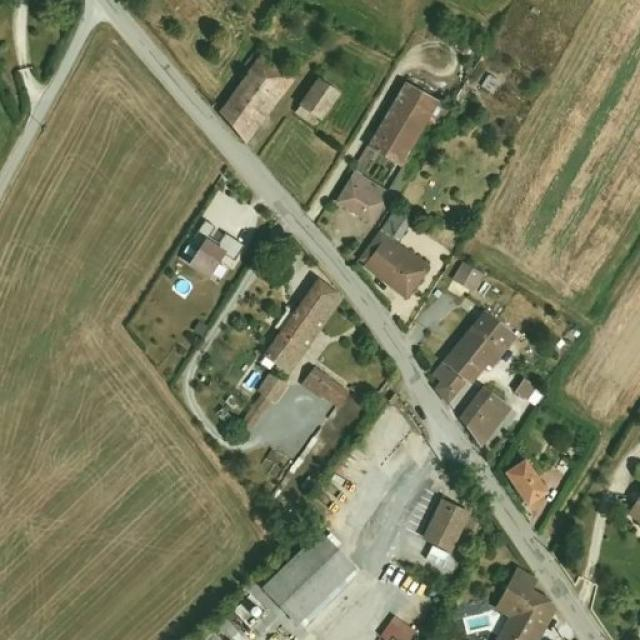ferme: (369, 75, 443, 166)
maison: (430, 292, 518, 395), (222, 48, 296, 144), (269, 262, 340, 357), (186, 193, 258, 276), (321, 169, 396, 242), (488, 561, 557, 640), (505, 446, 564, 519), (368, 234, 429, 291), (461, 380, 510, 440), (301, 71, 345, 127)
piscine: (456, 607, 496, 634), (234, 363, 264, 393), (168, 274, 198, 299)
usine: (267, 529, 359, 627), (420, 484, 470, 557)
